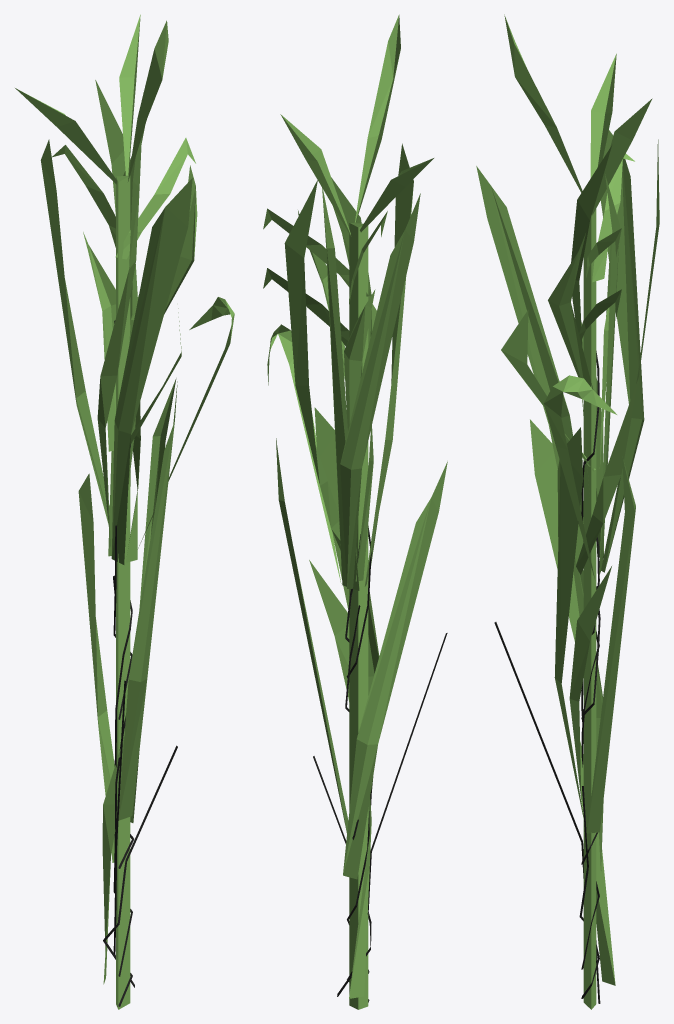
The model's file is Sugarcane_4.fbx.
The picture shows the model from 3 angles, left to right: view 1: azimuth 30°, elevation 25°; view 2: azimuth 150°, elevation 25°; view 3: azimuth 270°, elevation 25°; orthographic projection. The views are drawn at different scales.
Parts seen in each view (by area): view 1: Sugarcane_4; view 2: Sugarcane_4; view 3: Sugarcane_4.
Boxes of the visible parts, x1,y1,x2,y2 form: Sugarcane_4: (15,14,234,1009); Sugarcane_4: (263,14,447,1009); Sugarcane_4: (476,14,659,1009).
Bounding box in the file's own units: 49.44 × 249 × 41.66.
